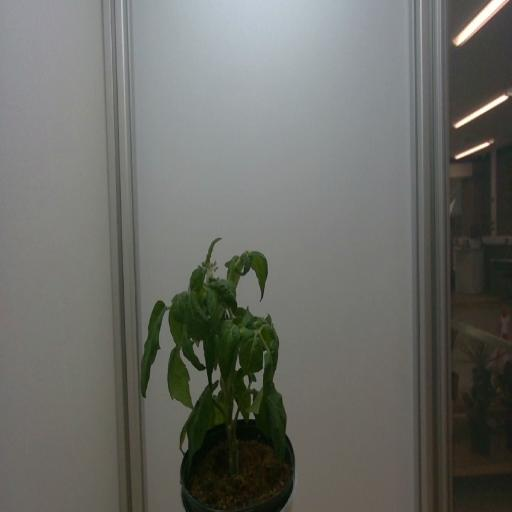Tomato-Leaves-Cupboard-: (136, 297, 166, 407), (184, 388, 216, 478), (247, 351, 280, 417), (266, 381, 288, 472), (167, 340, 192, 414), (216, 318, 240, 381), (179, 330, 206, 378), (249, 247, 272, 303), (210, 276, 238, 316), (239, 332, 264, 376), (202, 392, 230, 430), (204, 288, 224, 339), (234, 371, 250, 427), (168, 306, 188, 344), (222, 251, 242, 288), (171, 287, 191, 322), (188, 264, 208, 293), (177, 422, 188, 460), (249, 365, 257, 388)
